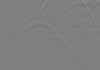hyperbola: (6, 19, 80, 62)
